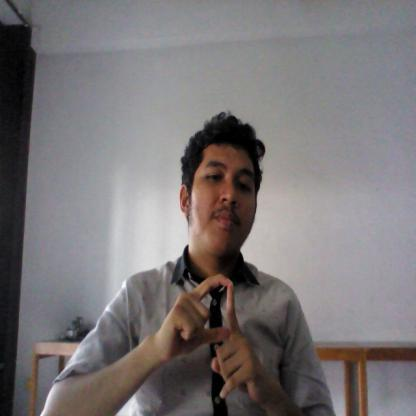D: (152, 271, 267, 402)
